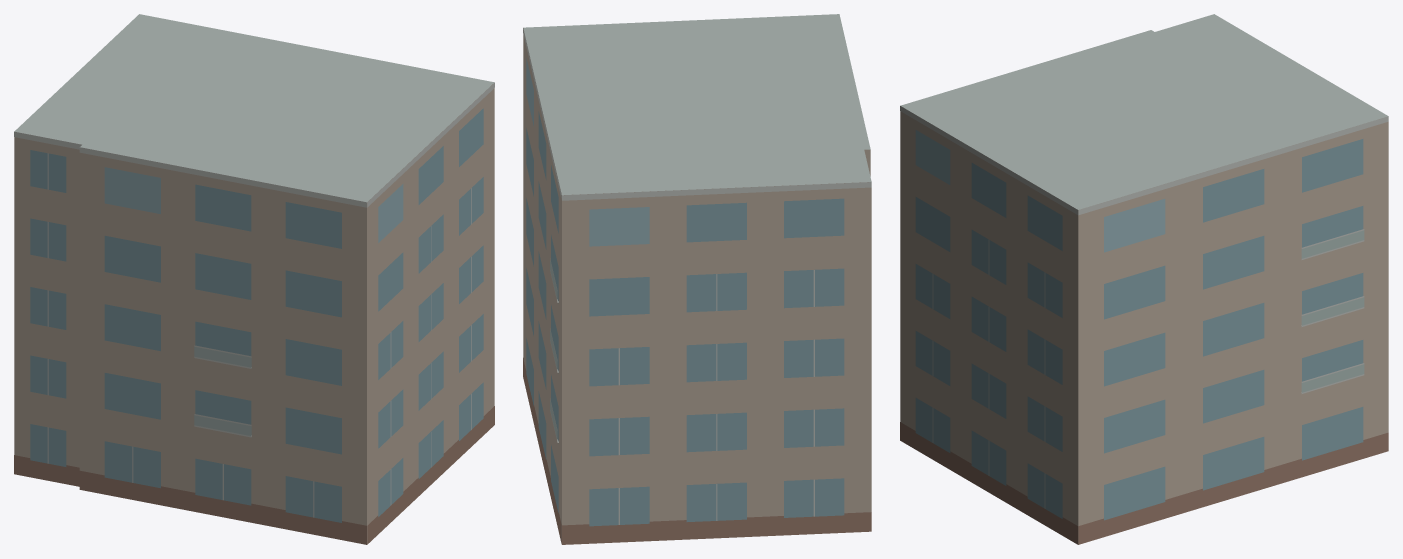
The model's file is survey-upis-32862722.glb.
3 renders of one model, left to right at view 1: azimuth 30°, elevation 25°; view 2: azimuth 150°, elevation 25°; view 3: azimuth 270°, elevation 25°, orthographic. The views are drawn at different scales.
Visible parts, largest first — view 1: survey-upis-32862722.tmp; view 2: survey-upis-32862722.tmp; view 3: survey-upis-32862722.tmp.
Part boxes in pixels (x1,y1,x2,y2): survey-upis-32862722.tmp: [14, 14, 494, 544]; survey-upis-32862722.tmp: [523, 14, 871, 544]; survey-upis-32862722.tmp: [900, 14, 1388, 544].
Bounding box in the file's own units: 19.15 × 15.25 × 20.17.
